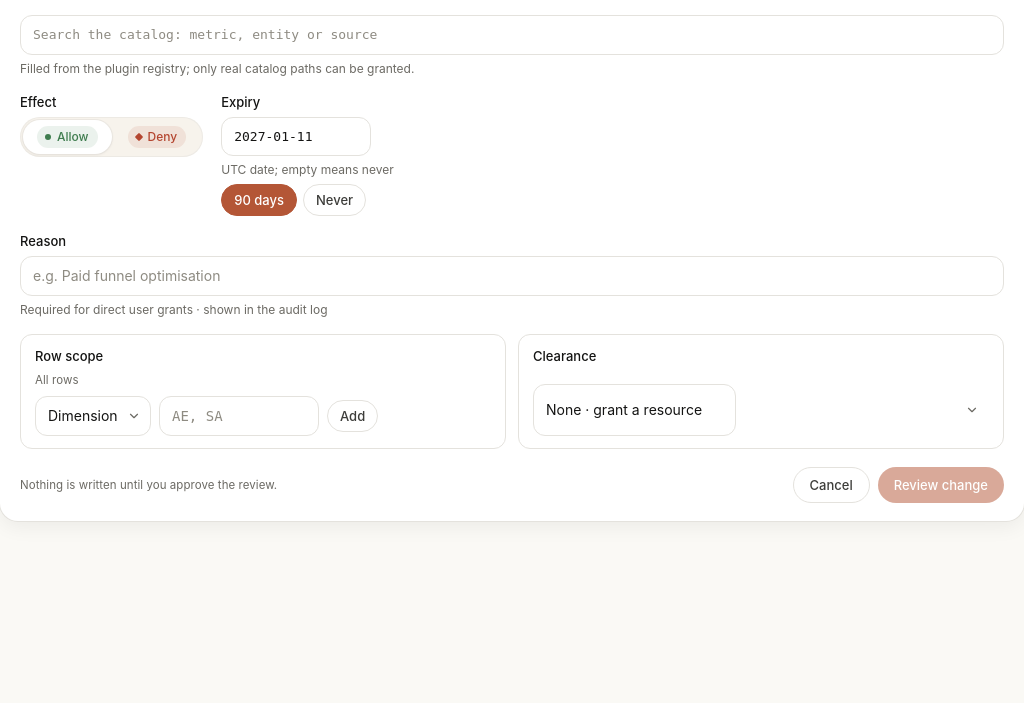
GrantEditor › a direct user grant needs a reason
The image size is (1024, 703).
Click the dropdown named "Target": (512, 35) 20,15 -> 1004,54
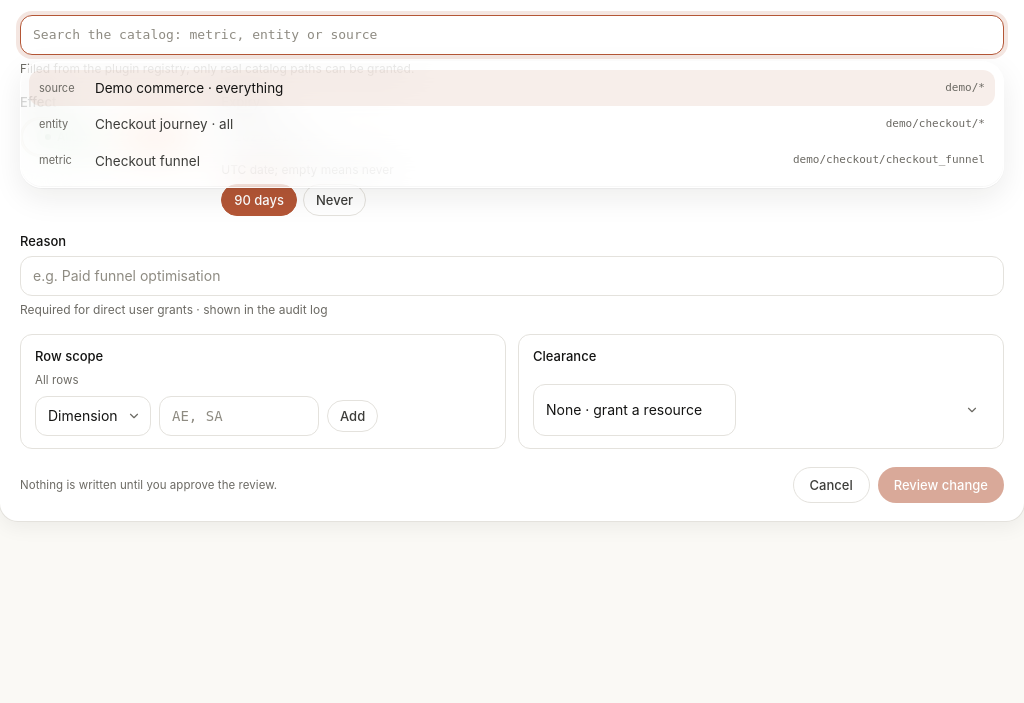
Type keys "funnel"
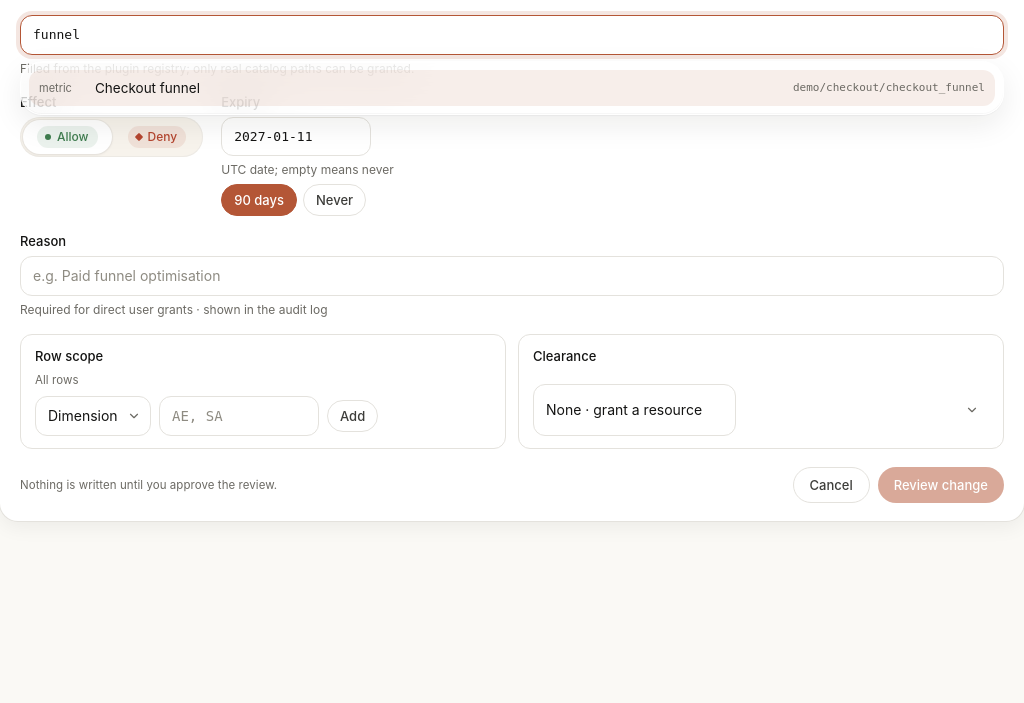
Click the option "metric Checkout funnel demo/checkout/checkout_funnel": (55, 87) 29,70 -> 995,106
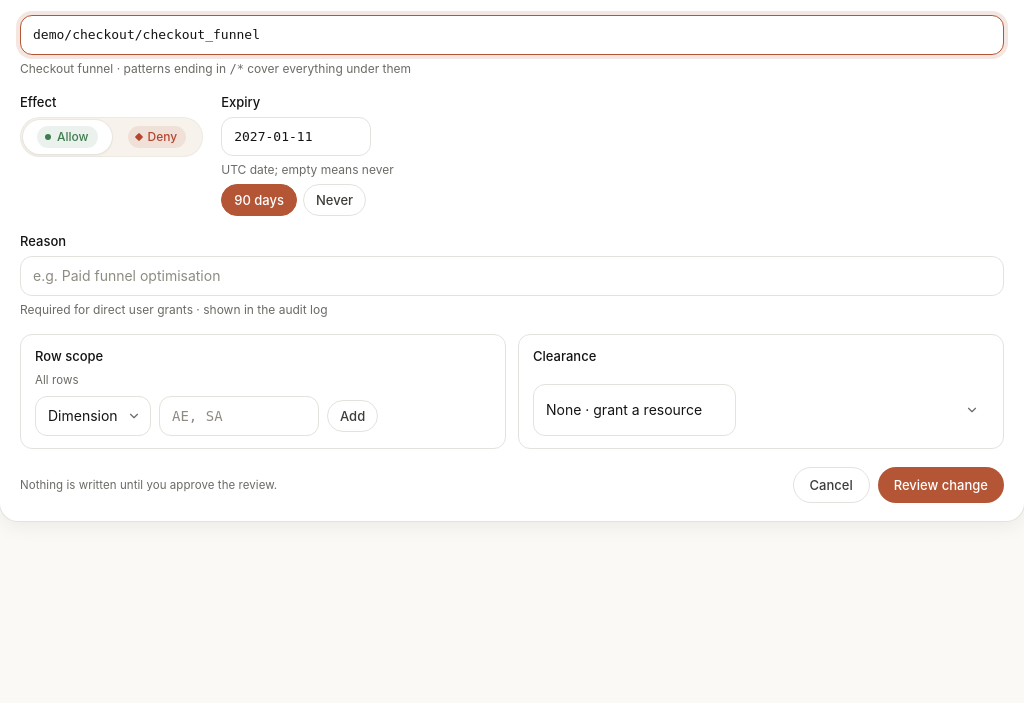
Click the button "Review change": (941, 485) 878,467 -> 1004,503
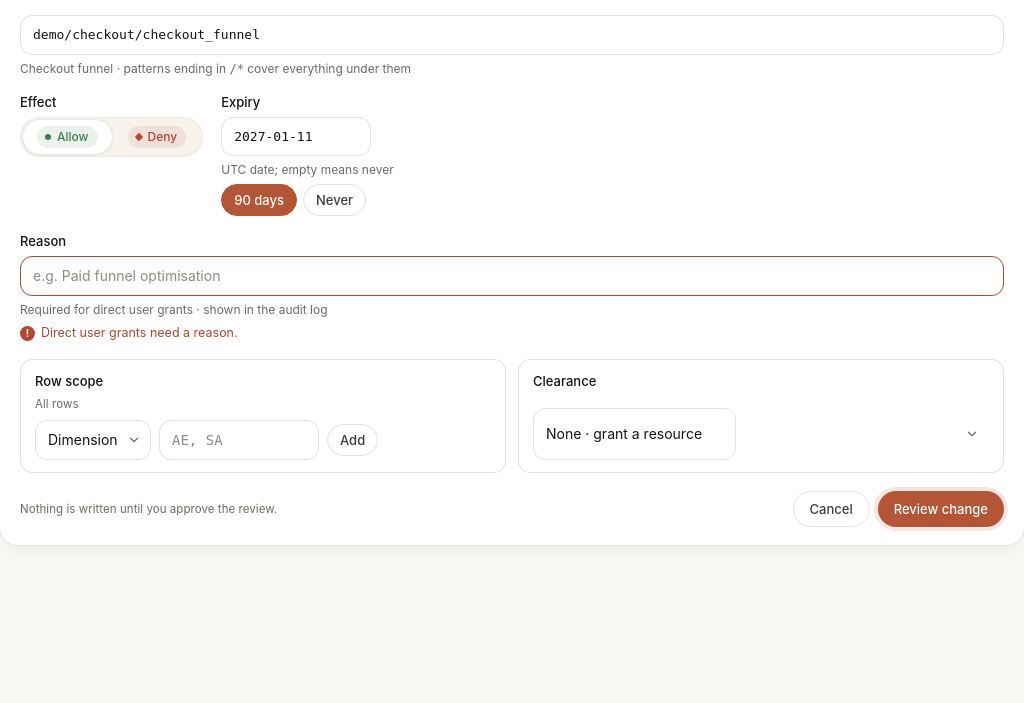
Expected: the element "Add grant ·" is not shown
Expected: the text "Direct user grants need a reason." is shown, 41,325 -> 238,340
In the field labelled "Reason": (512, 276) 20,256 -> 1004,296, type "Funnel QA"
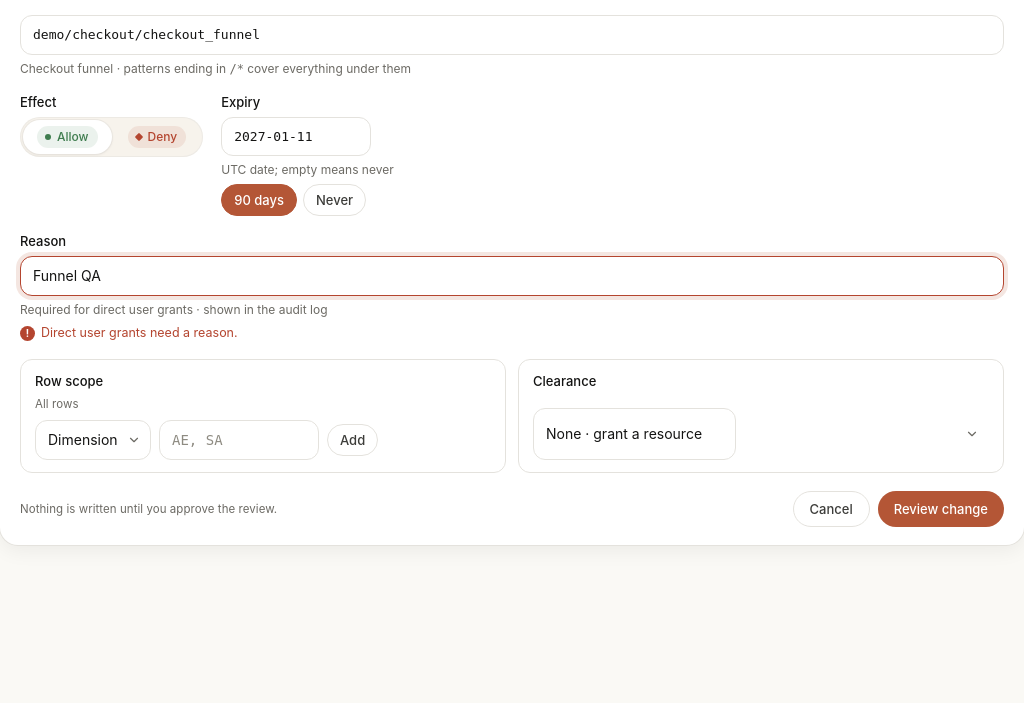
Click the button "Review change": (941, 509) 878,491 -> 1004,527
(page scrolled)
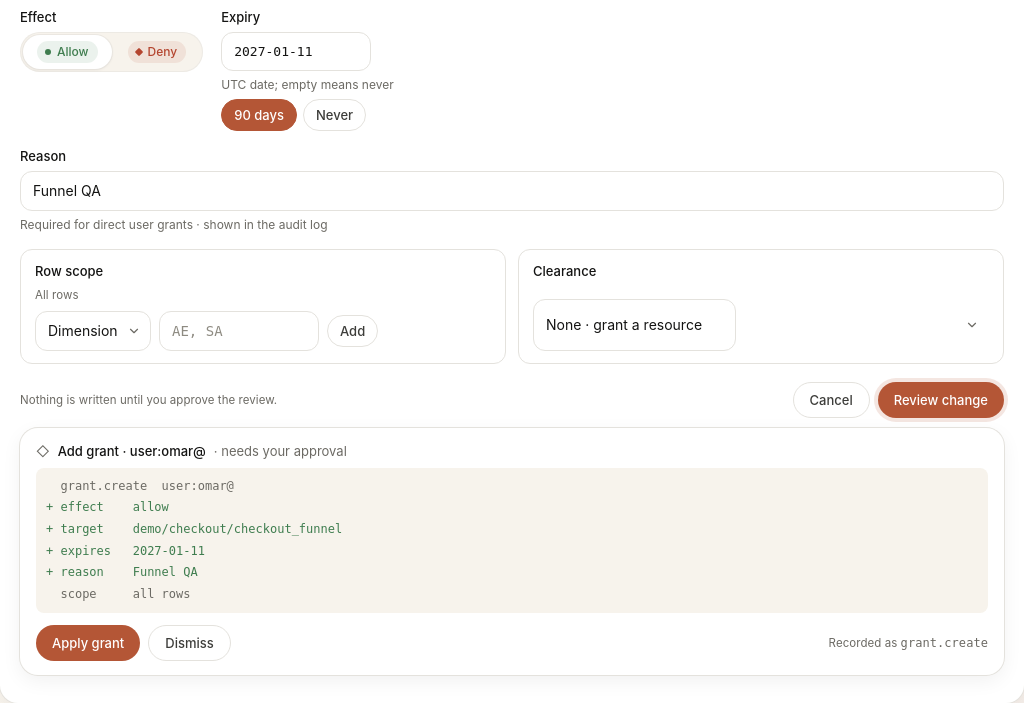
Expected: the element "Add grant · user:omar@" is shown, 20,428 -> 1004,676
